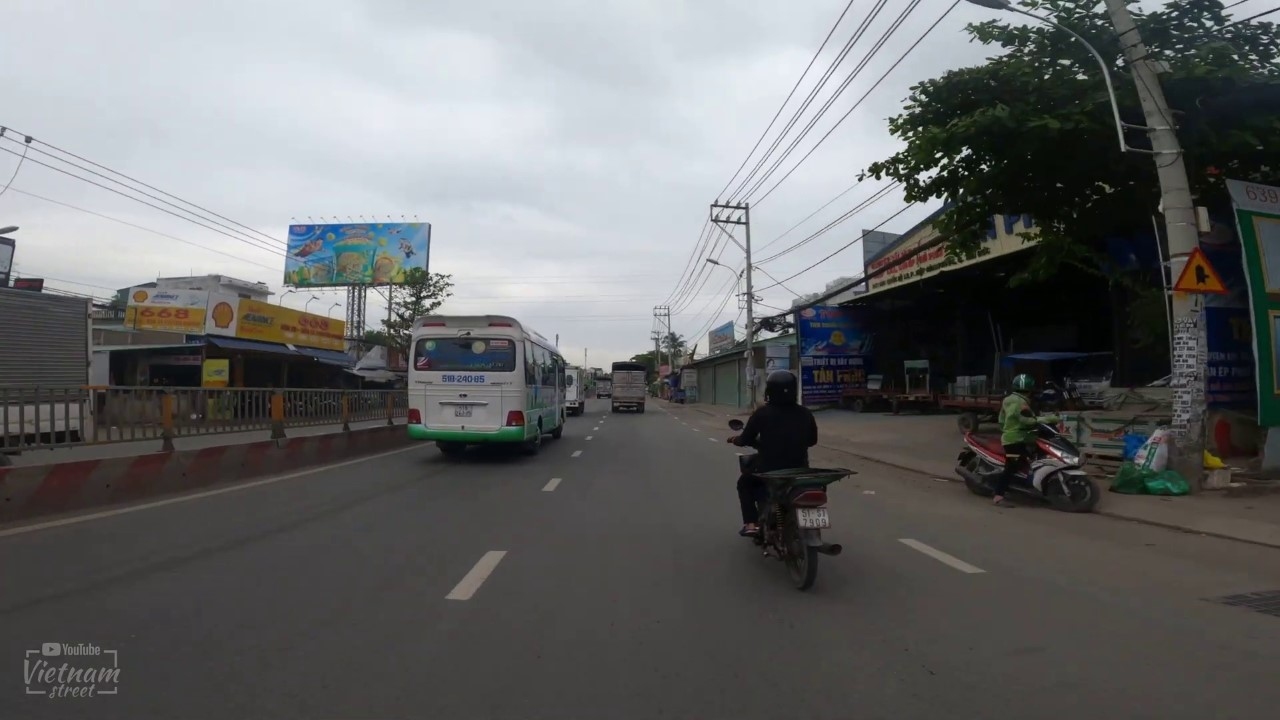giao_khong_uu_tien_phai: (1171, 246, 1228, 295)
